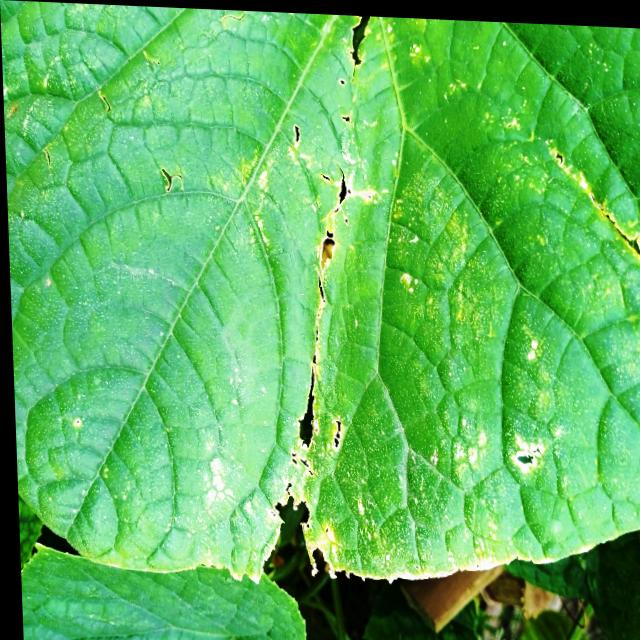Anthracnose: (243, 162, 373, 581), (330, 16, 382, 92)
